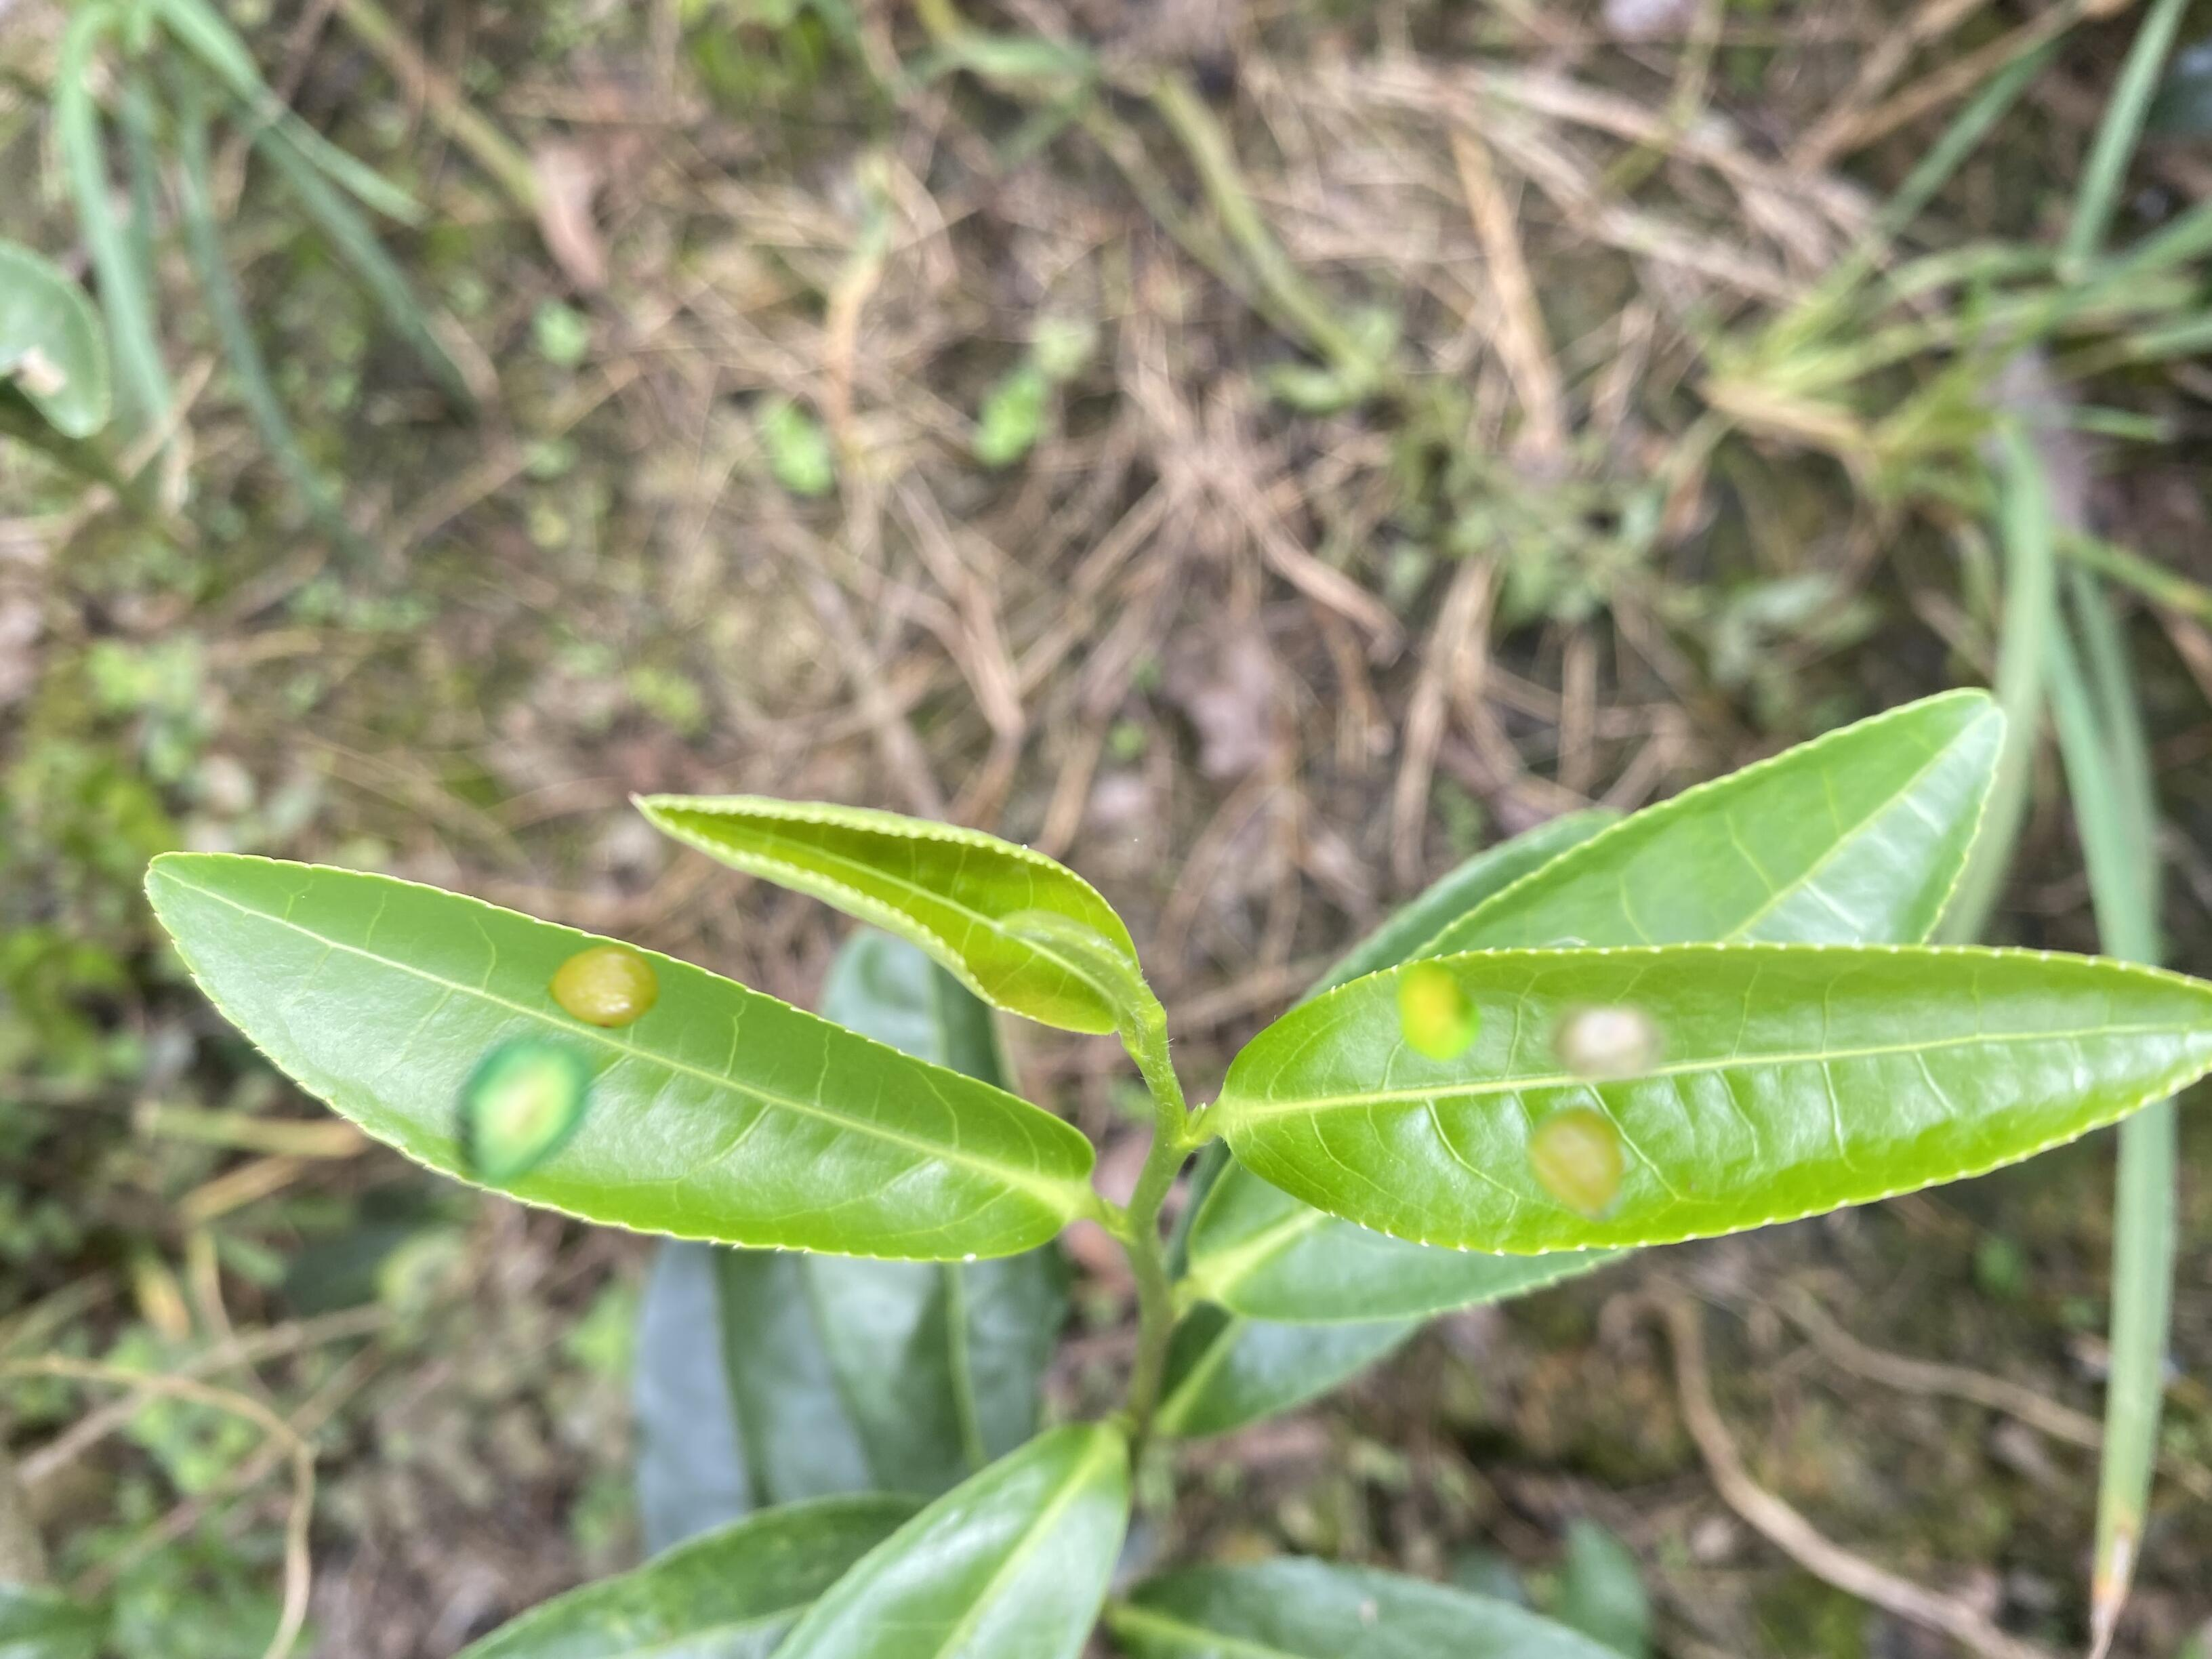chabing_high: (145, 850, 1096, 1263), (1224, 945, 2210, 1260)
healthy: (632, 791, 1136, 1033)
